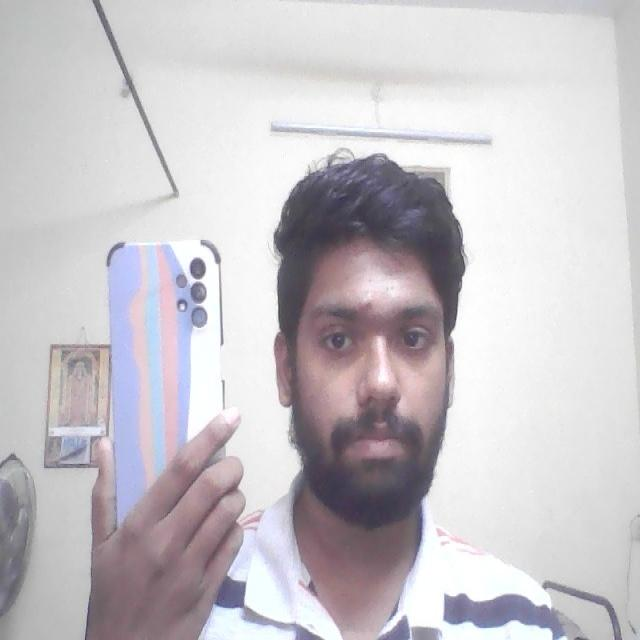Mobile: (103, 233, 227, 459)
